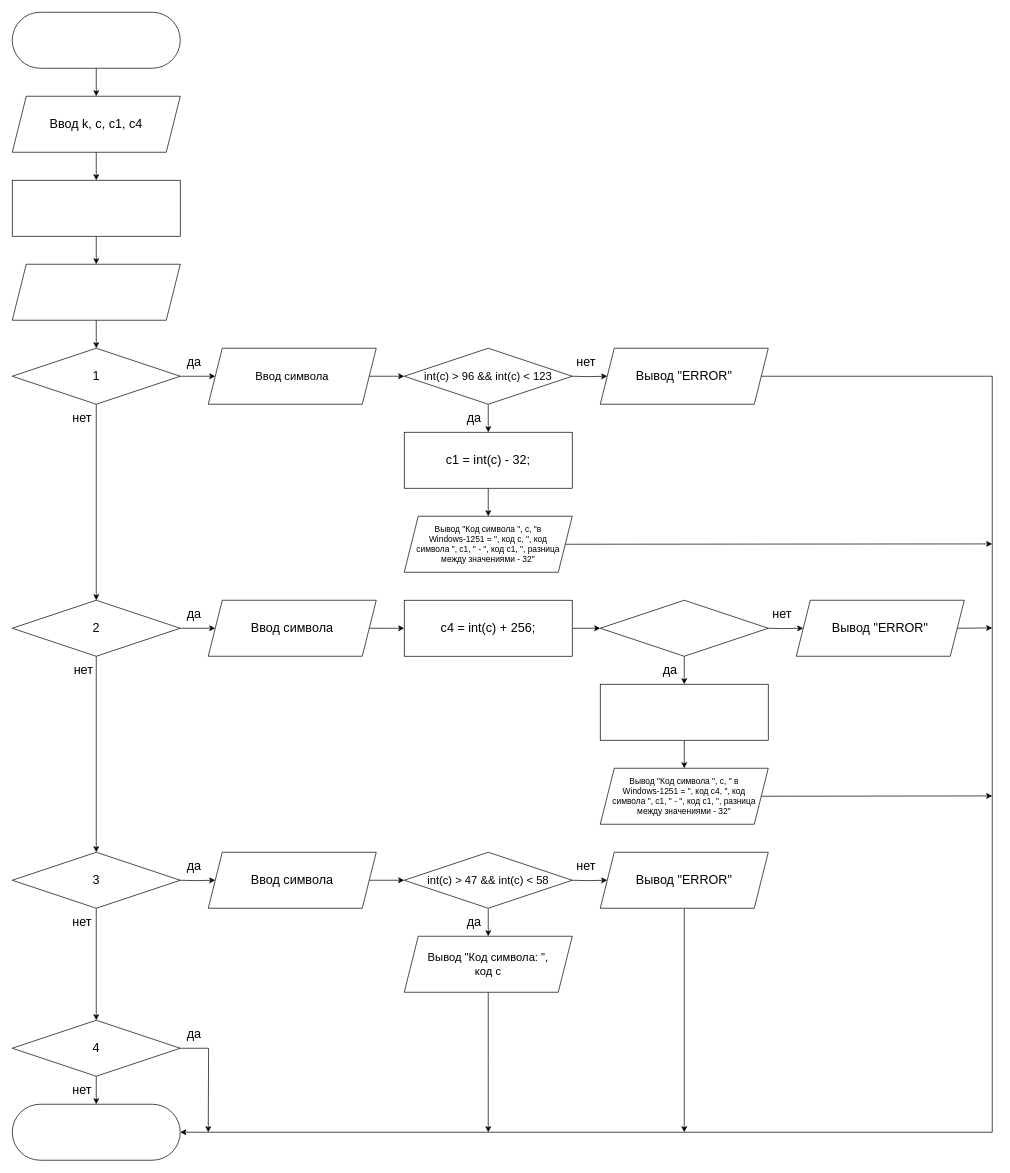
Some shapes in this 1010 by 1173 pixel diagram are drawn without their labels. The centre of each missing label's shape, as x and y in pixels:
"c1 = c4 - 32" belongs at (684,712).
"c4 > 223 && c4 < 256" belongs at (684,628).
"Ввод числа (1-4)" belongs at (96,292).
"Выберите один из вариантов: 1... 2... 3... 4..." belongs at (96,208).
"Конец" belongs at (96,1132).
"Начало" belongs at (96,40).
